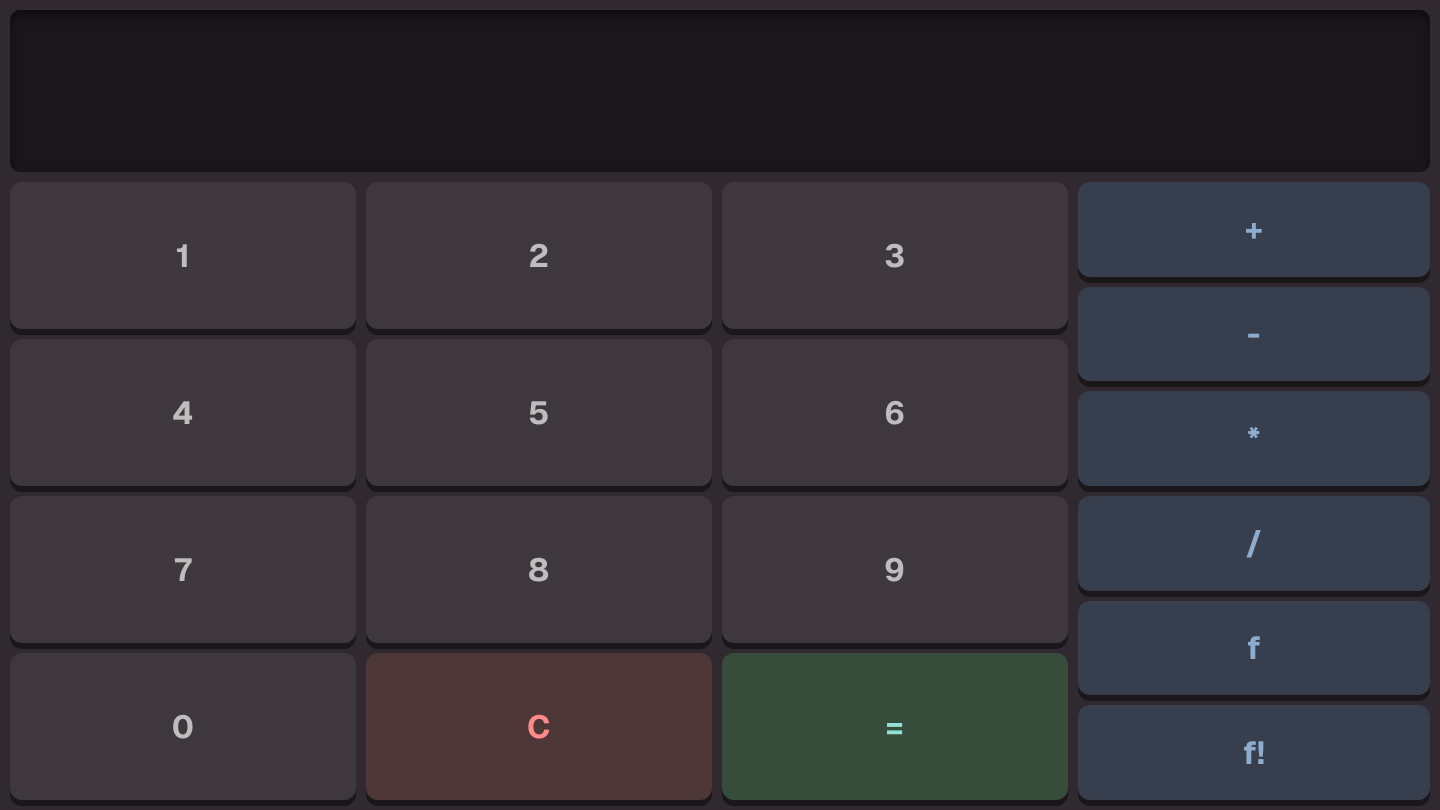
it: Calculator Component › calculates correctly when pressing =
What coordinates should you click on to do the following:
click the button "8"
I would click on:
 (539, 570)
Its box is [366,496,712,643].
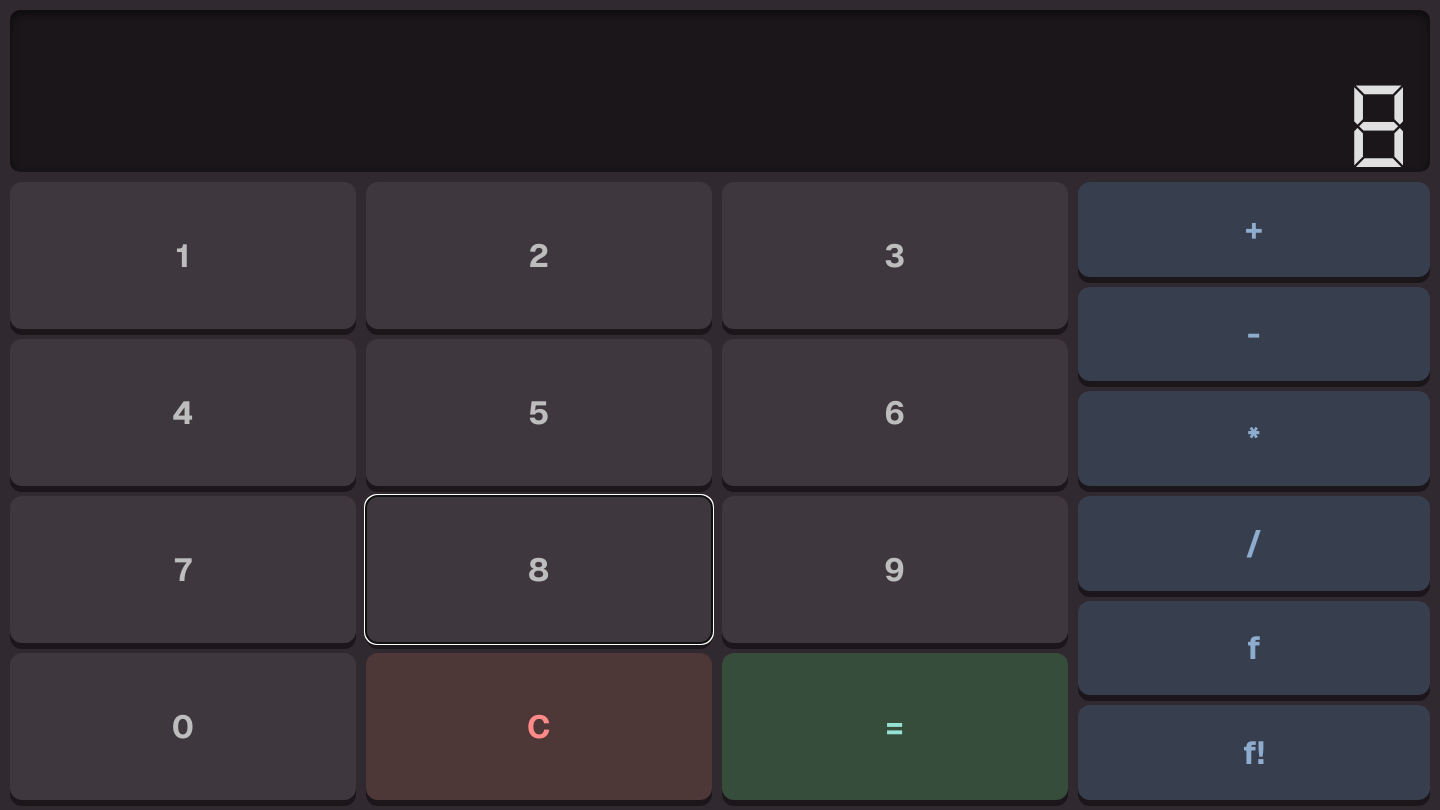
What coordinates should you click on to do the following:
click the button "*"
I would click on:
 (1254, 439)
Its box is [1078,391,1430,486].
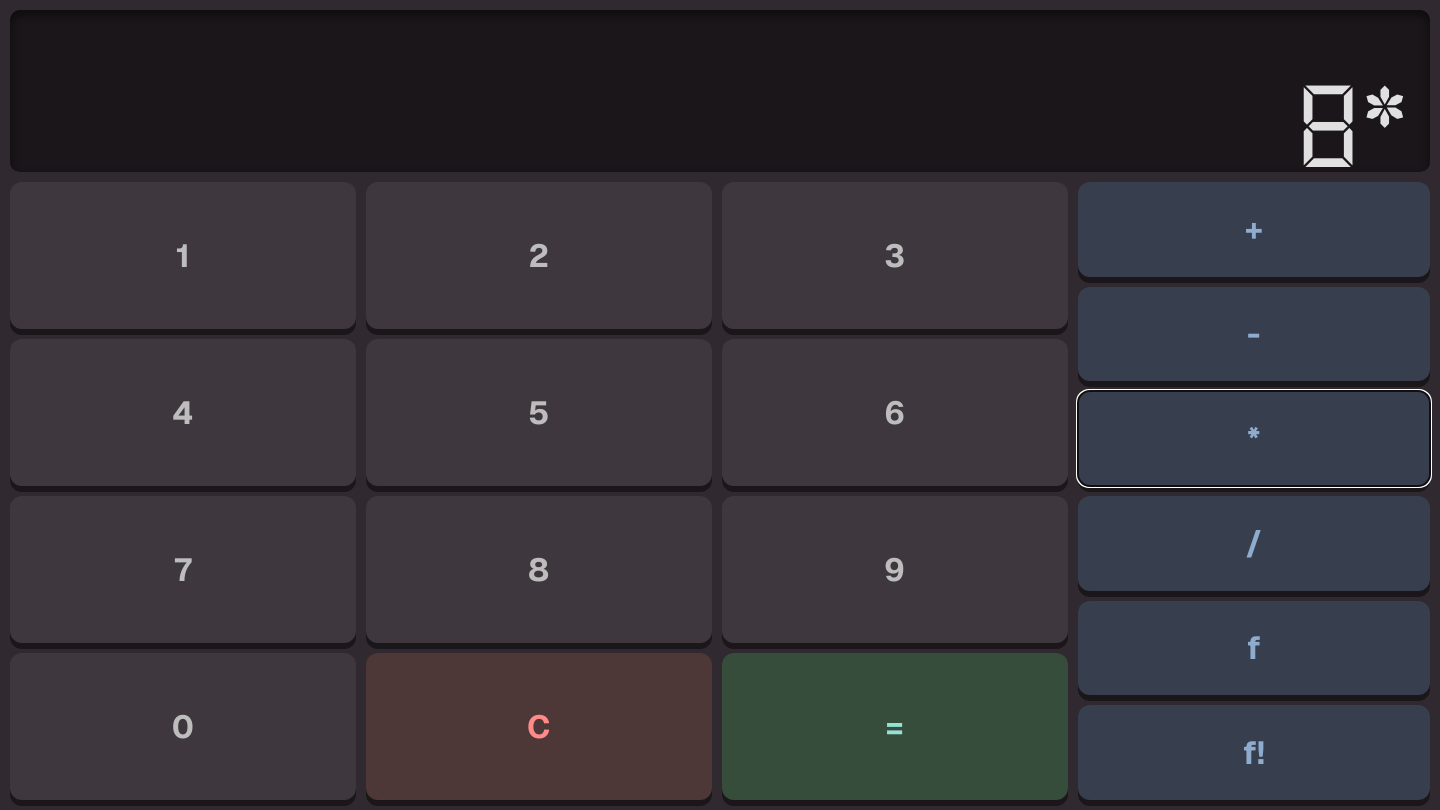
What coordinates should you click on to do the following:
click the button "7"
I would click on:
 (183, 570)
Its box is [10,496,356,643].
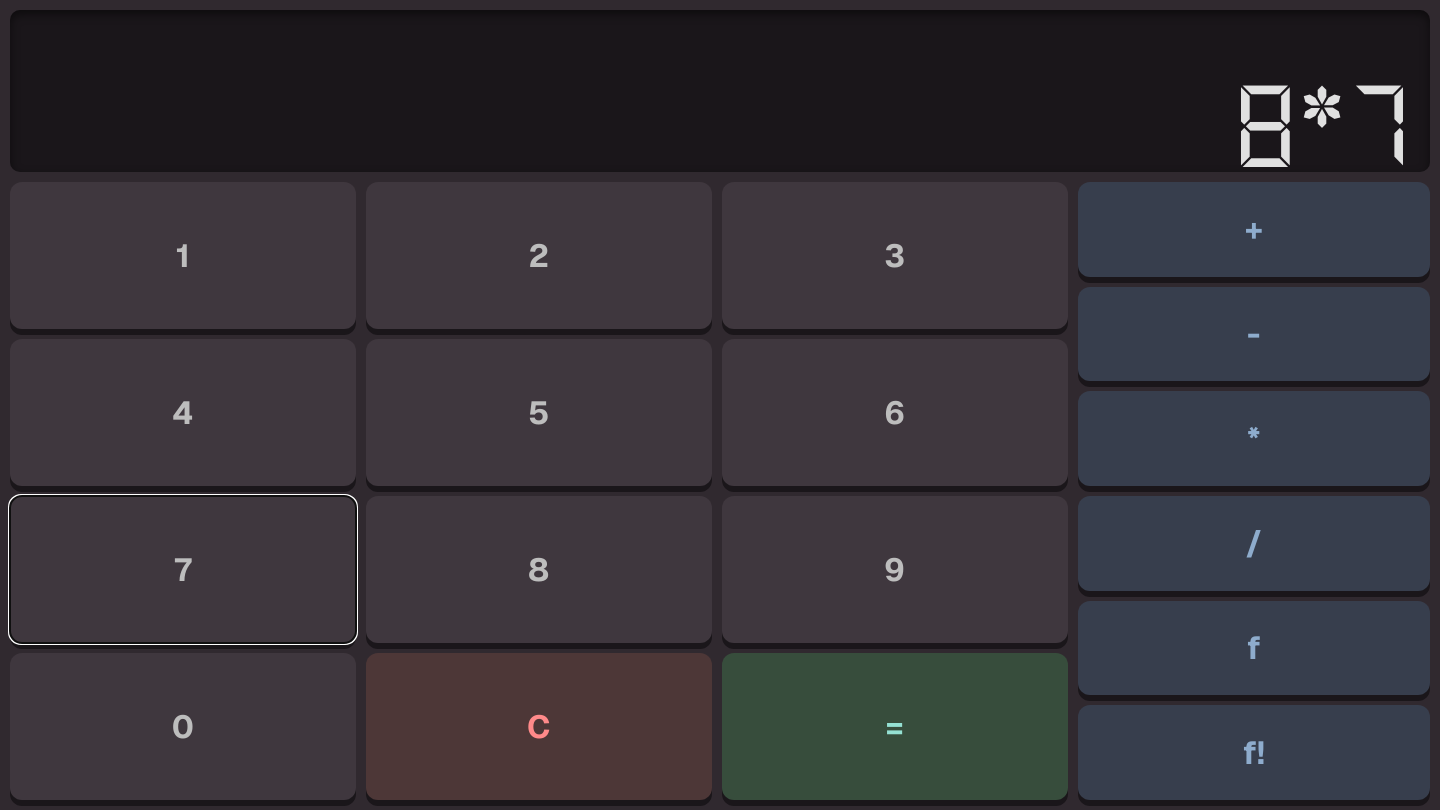
What coordinates should you click on to do the following:
click the button "="
I would click on:
 (895, 726)
Its box is [722,653,1068,800].
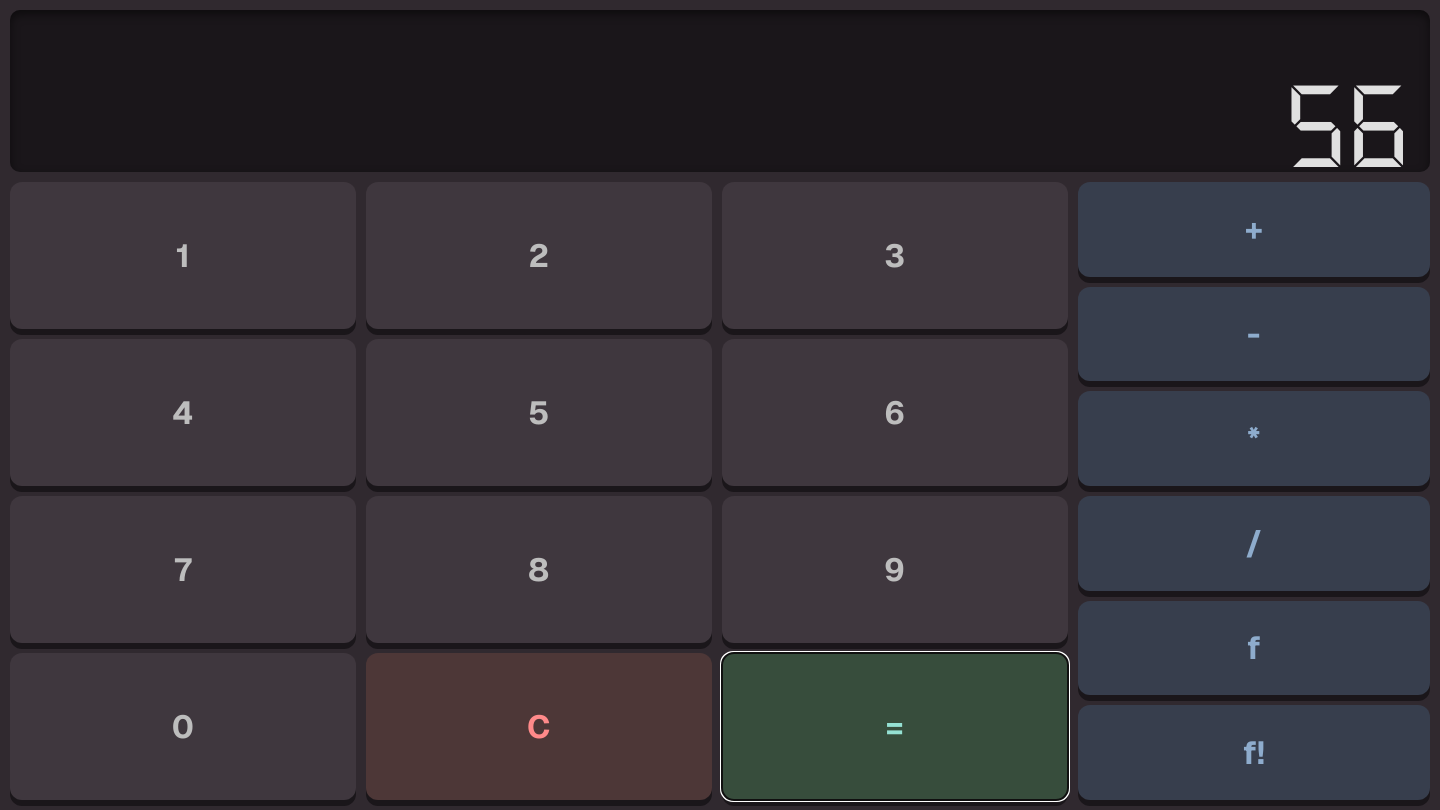
Result: the text box holds "56" at [10,10,1430,172]
